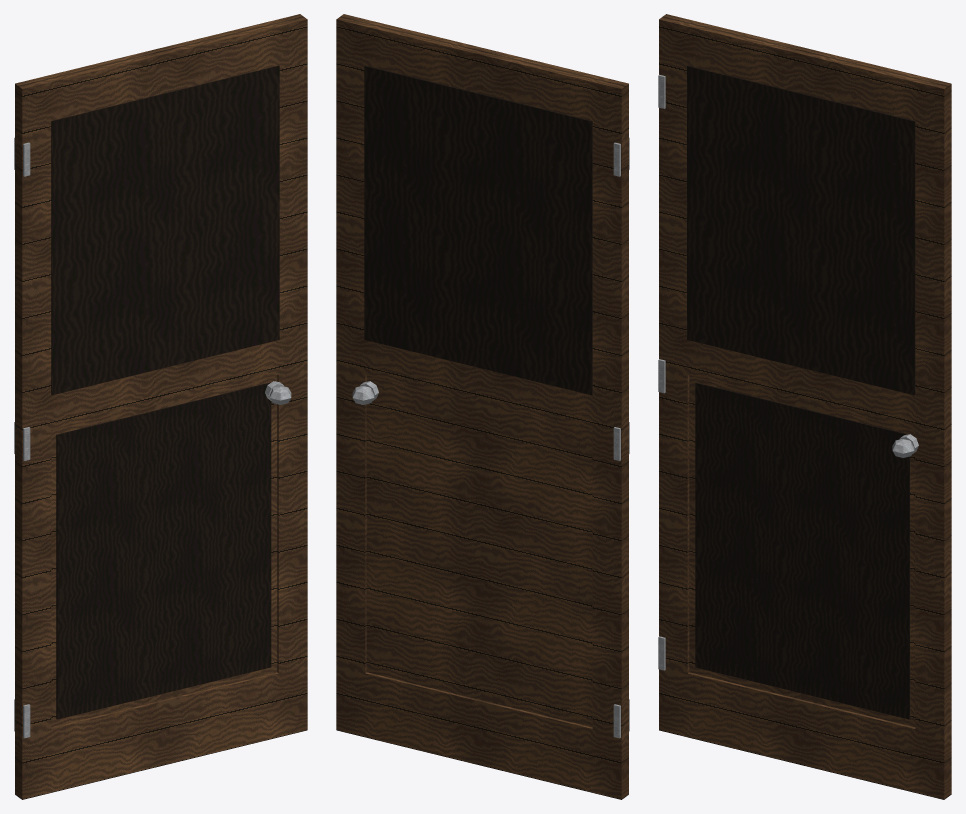
Rendered from door_wood.glb.
3 renders of one model, left to right at view 1: azimuth 30°, elevation 25°; view 2: azimuth 150°, elevation 25°; view 3: azimuth 330°, elevation 25°, orthographic.
Visible parts, largest first — view 1: door_wood; view 2: door_wood; view 3: door_wood.
Part boxes in pixels (x1,y1,x2,y2): door_wood: (14, 14, 307, 799); door_wood: (336, 14, 629, 799); door_wood: (658, 14, 951, 799).
Bounding box in the file's own units: 0.84 × 2 × 0.1634.
4 materials, 4 textured.
